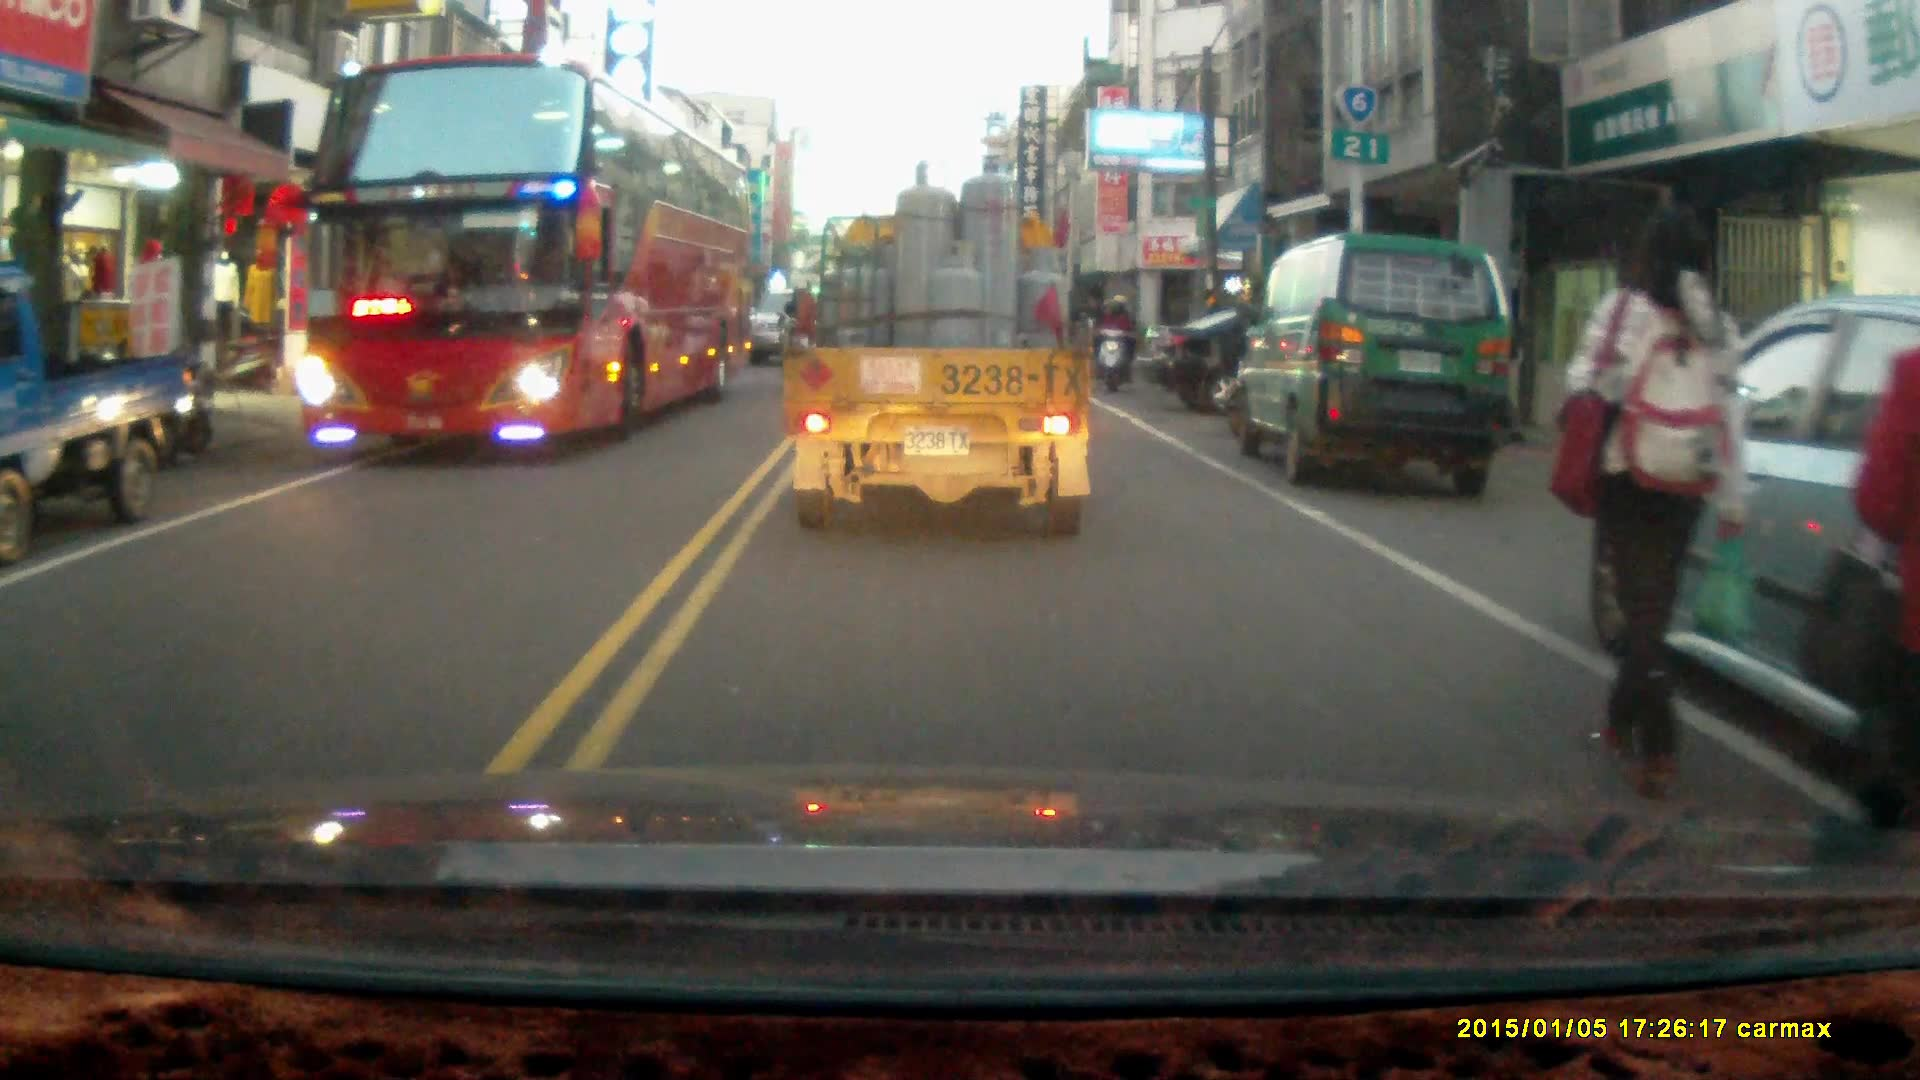pedestrian: (1558, 194, 1750, 796)
rider: (1089, 288, 1136, 388)
vehicle: (292, 56, 762, 457), (786, 153, 1096, 540), (1235, 231, 1514, 490), (1, 286, 197, 555), (1134, 303, 1437, 410)
